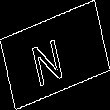N_N: (36, 24, 74, 86)
